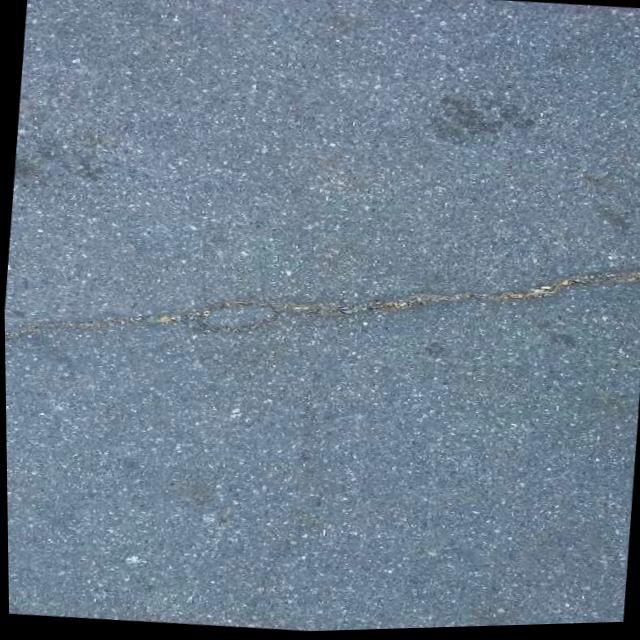Crack: (3, 209, 640, 392)
